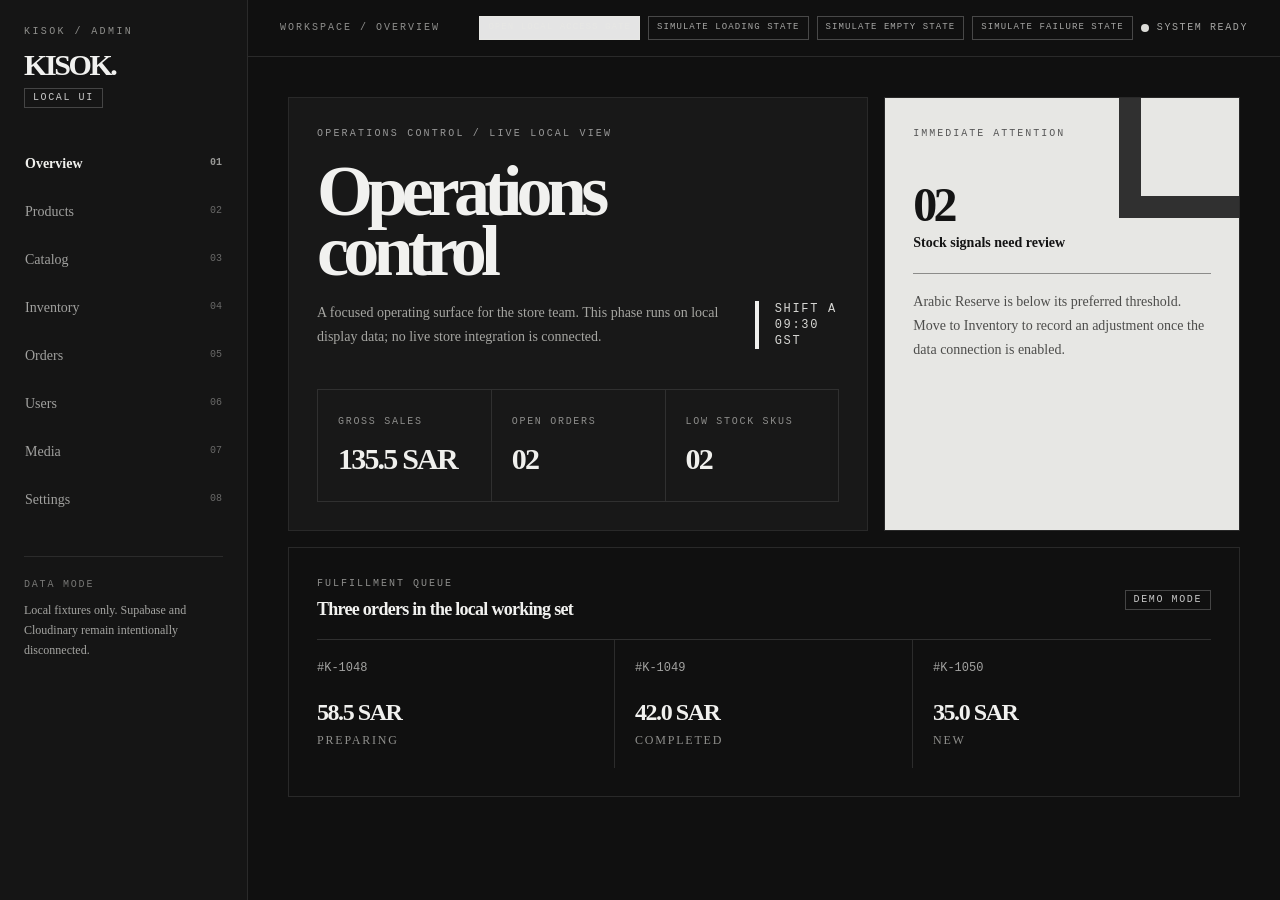
Scenario: KisokAdminConsole › renders local users, media, and store settings through feature navigation
This screenshot has width=1280, height=900.
Click the button "Users 06".
click(124, 404)  # box [24, 380, 223, 428]
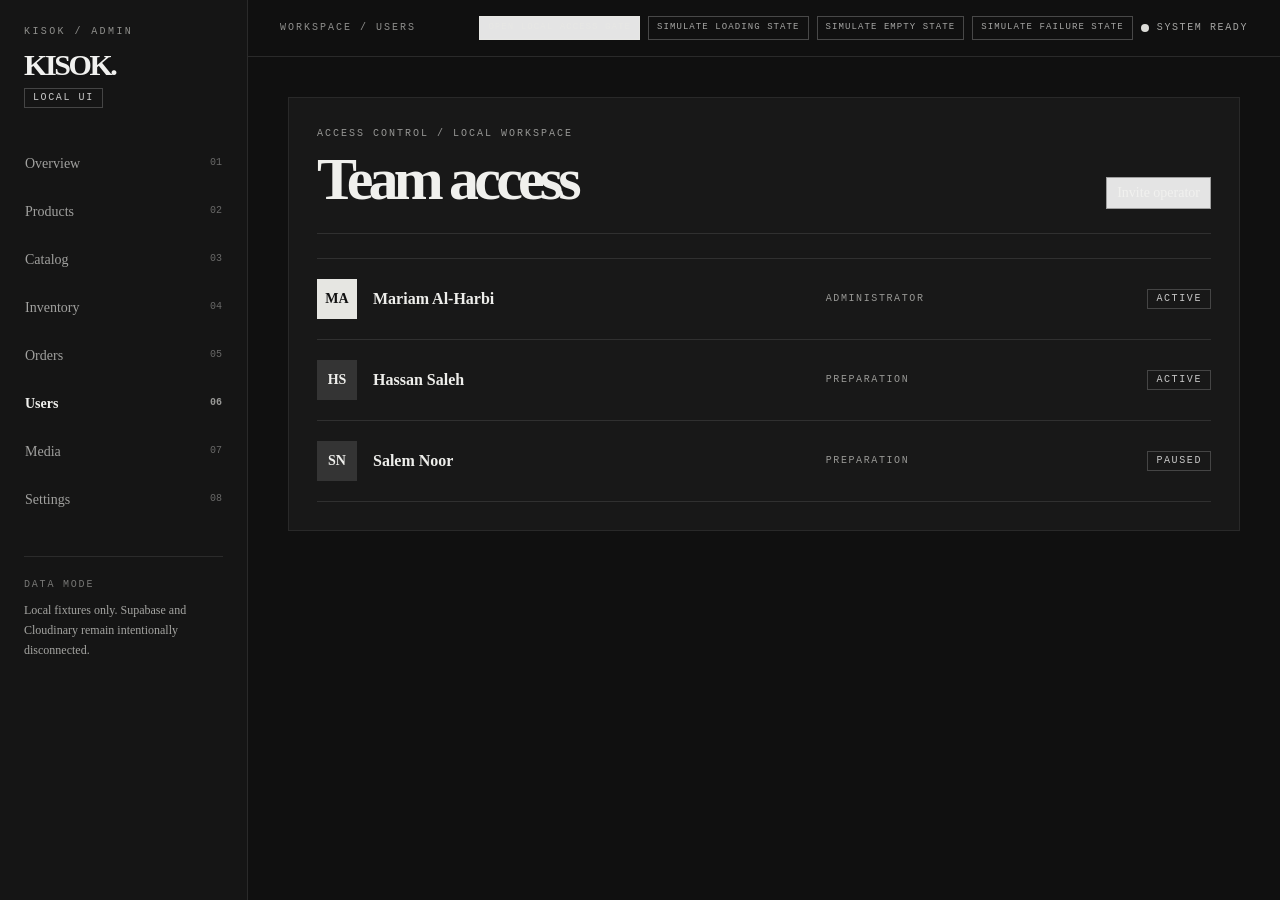
expect the text "Mariam Al-Harbi" is shown: met, box [373, 290, 494, 306]
Click the button "Media 07".
click(124, 452)  # box [24, 428, 223, 476]
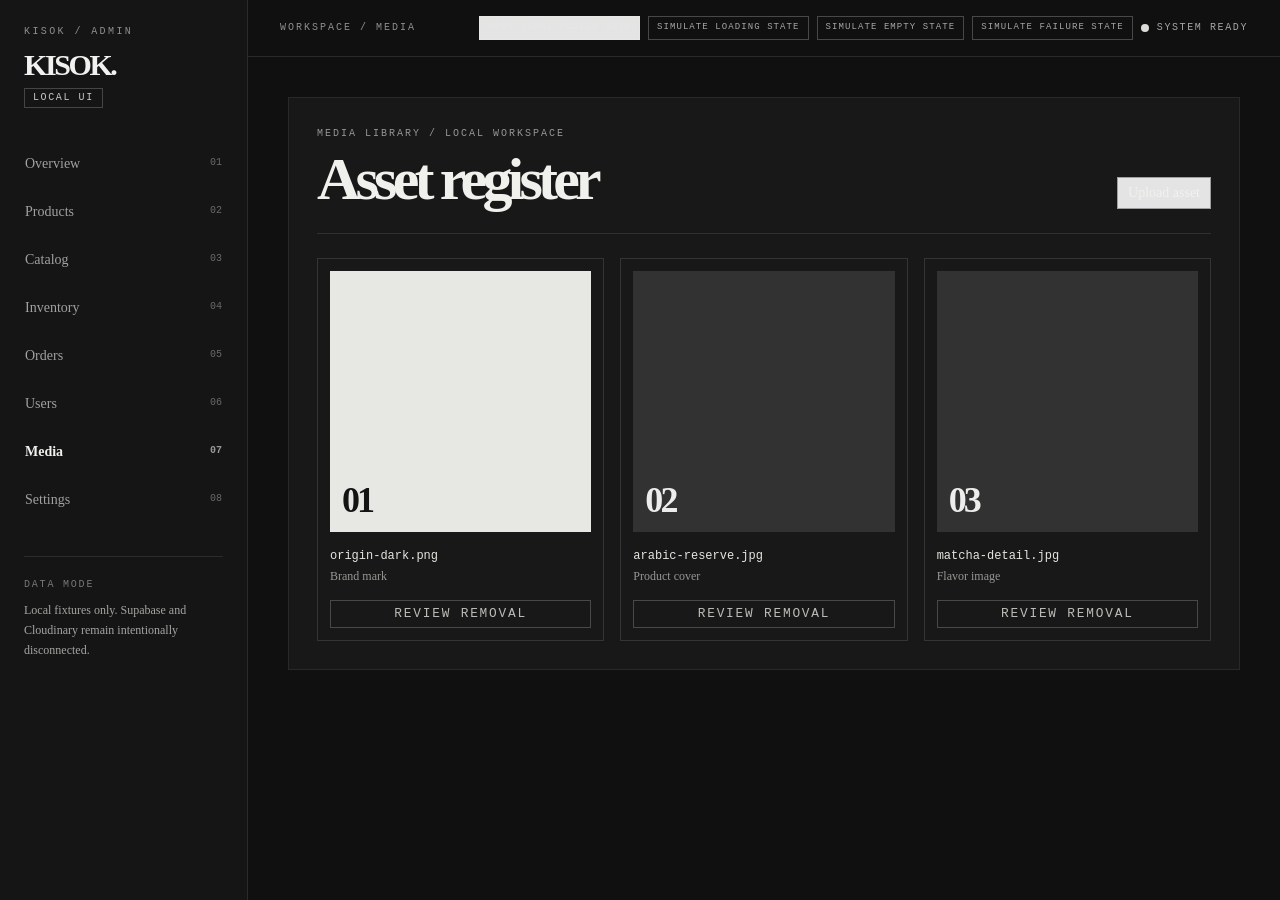
expect the text "origin-dark.png" is shown: met, box [330, 549, 438, 563]
Click the button "Settings 08".
click(124, 500)  # box [24, 476, 223, 524]
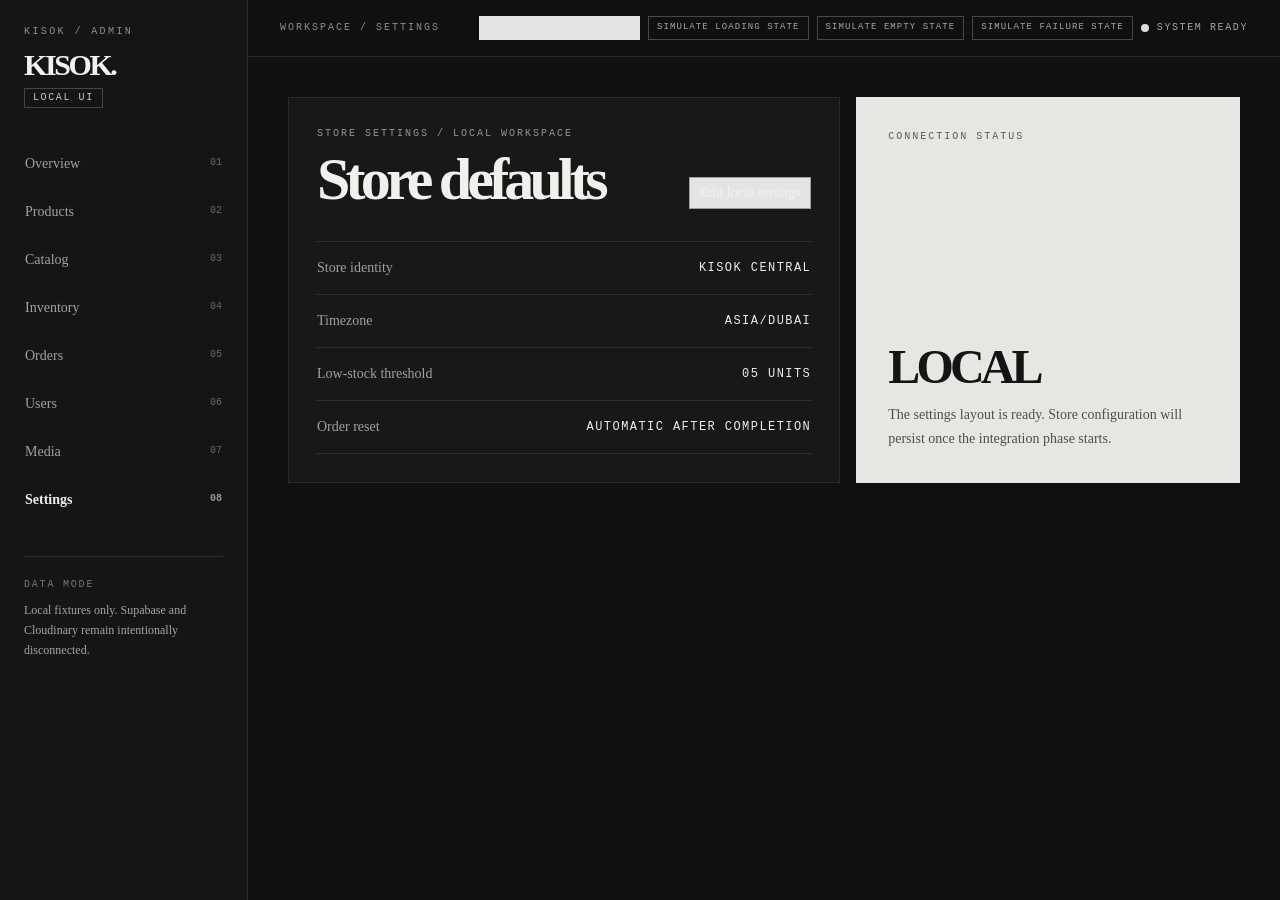
expect the text "Low-stock threshold" is shown: met, box [317, 364, 432, 384]
